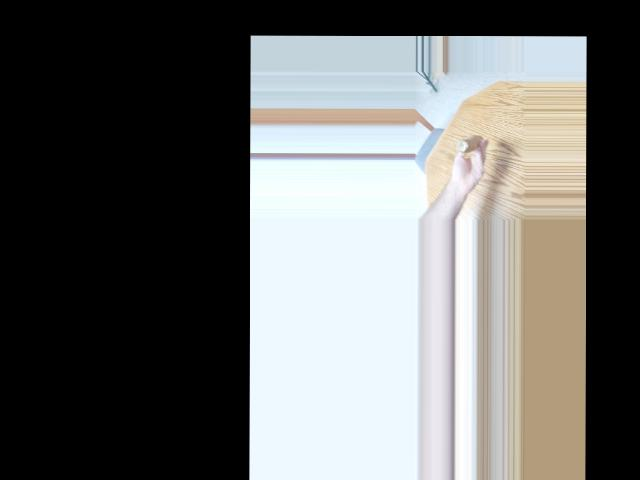sweet_potato: (452, 134, 484, 157)
